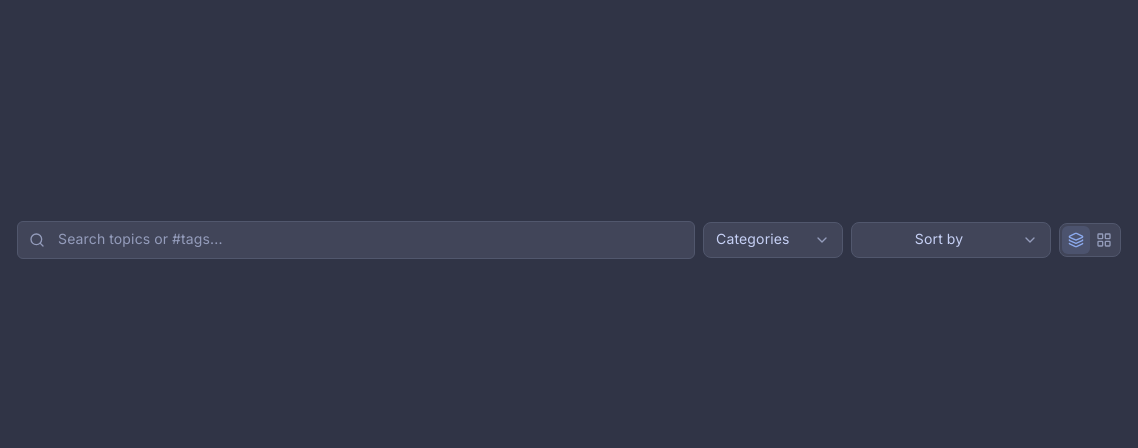
Test: OverviewPage › search filters topics by description
In the field with test id "overview-search" showing "Search topics or #tags...": (356, 240) [17,221,695,259], type "event-driven"
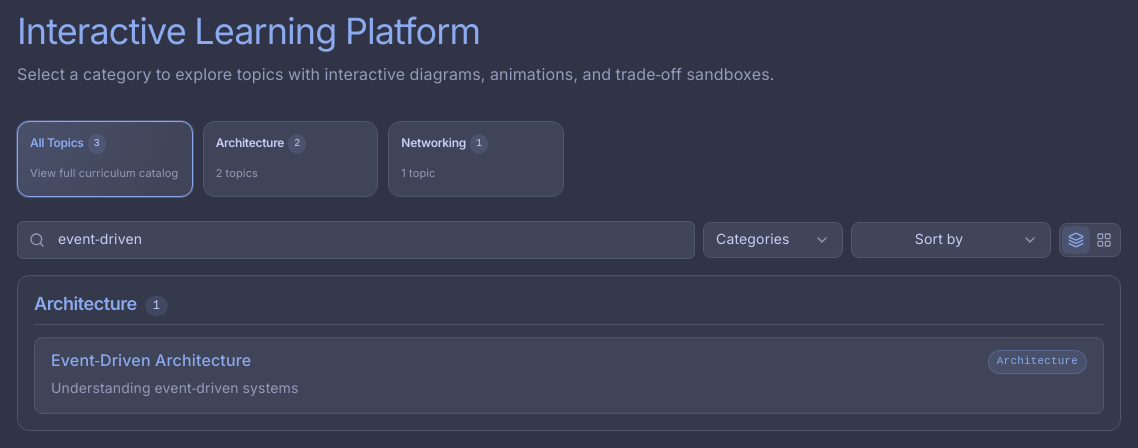
Result: the text "Event-Driven Architecture" is shown at [51,350,251,374]
